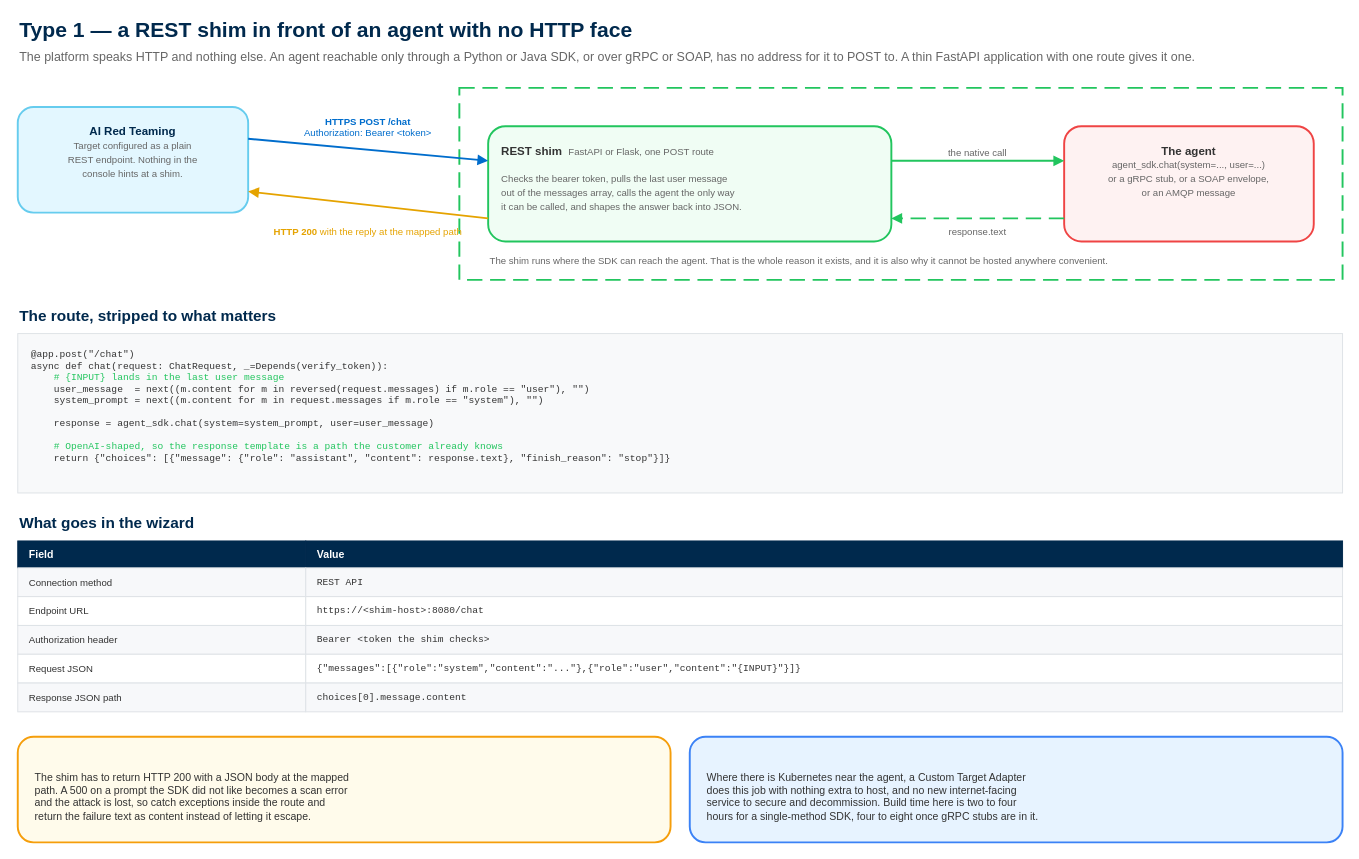
Some shapes in this 1359 by 859 pixel diagram are drawn without their labels. The shapes that lost their labels are listed below. From the top down, each one's box as (x1, y1, x2, y2) in pixels, then its label:
(458, 86, 1343, 280): THE AGENT'S OWN RUNTIME same container, same VPC, or same host
(16, 735, 671, 843): Anything other than 200 is an error, not a finding
(688, 735, 1343, 843): Reach for the adapter first
